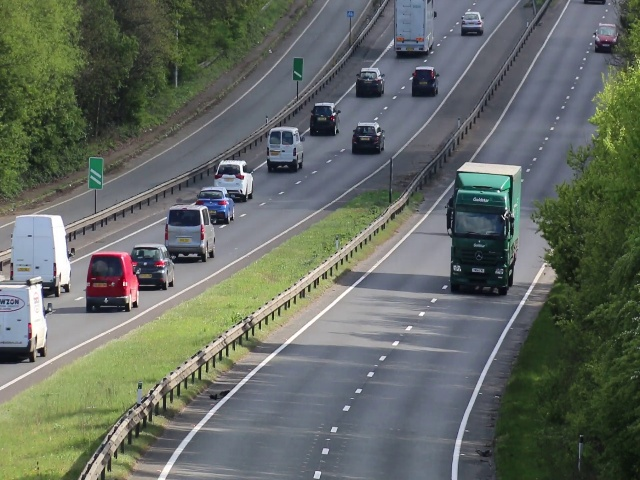car: (446, 174, 514, 297), (1, 280, 51, 363), (16, 215, 74, 279), (84, 253, 139, 312), (165, 204, 215, 260), (394, 1, 436, 55), (132, 245, 175, 288), (266, 128, 305, 172), (352, 123, 385, 156), (353, 68, 386, 99), (309, 104, 340, 136), (216, 157, 251, 183), (198, 186, 230, 214), (412, 66, 439, 98), (593, 20, 618, 51), (459, 9, 485, 35)
